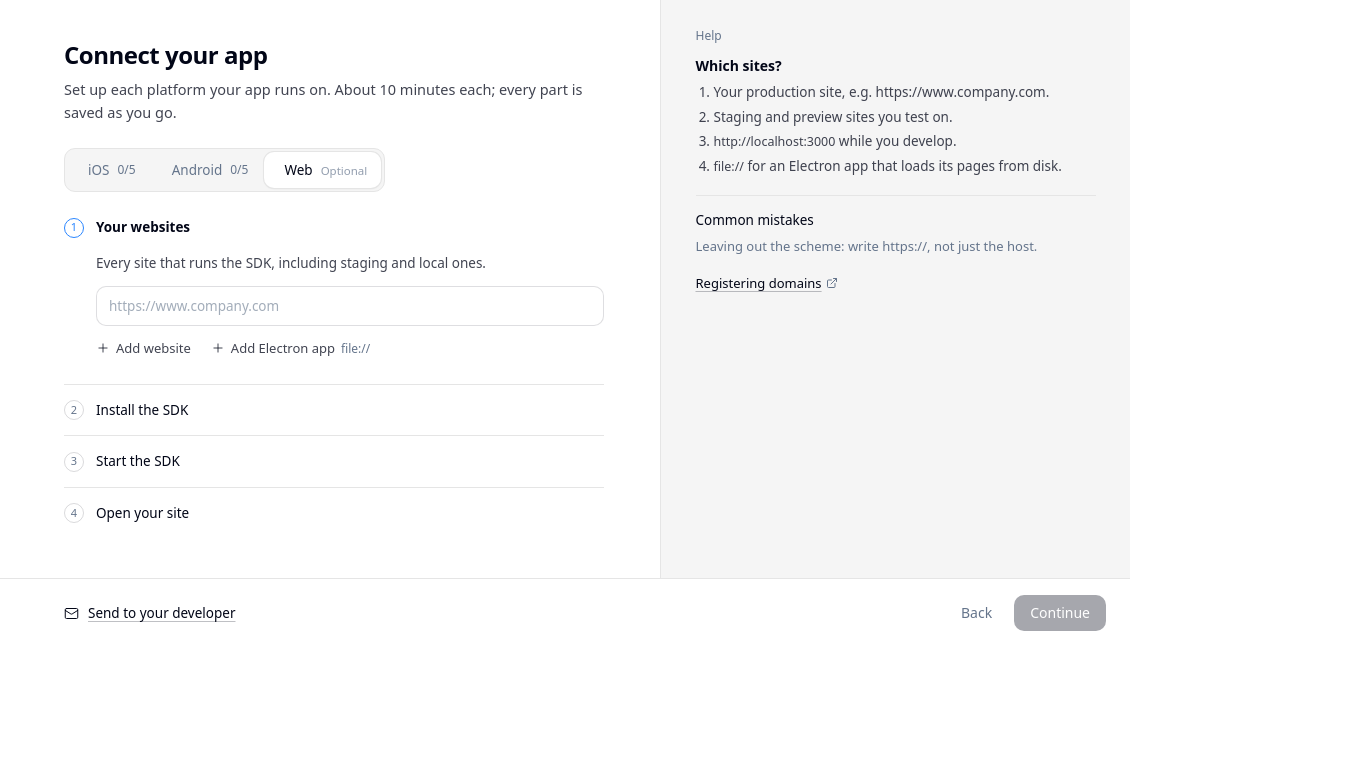
ConnectStep › adds file:// for an Electron app on Web
The image size is (1366, 768).
Click the button "Add Electron app file://" at (290, 348), box [203,332,378,364]
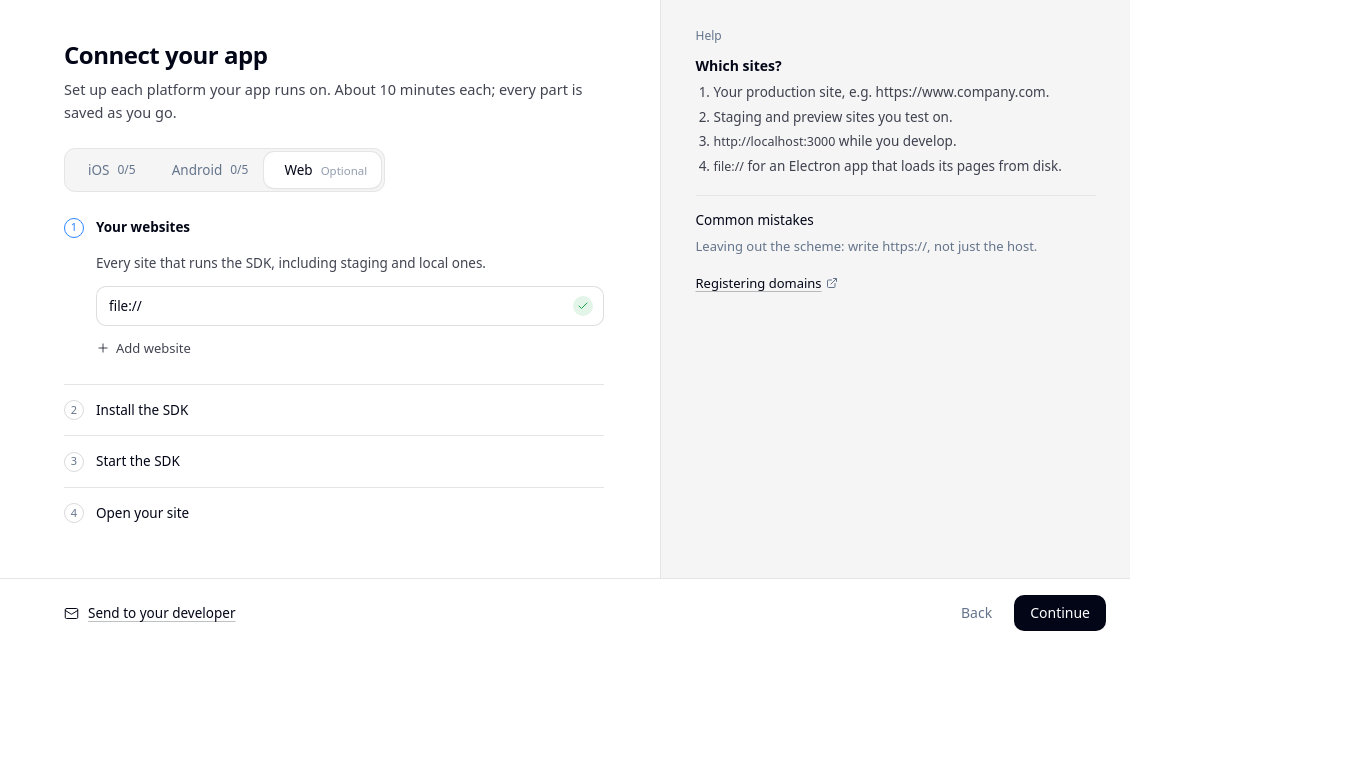
Now the field named "Website 1" holds "file://", box [109,287,565,325]
